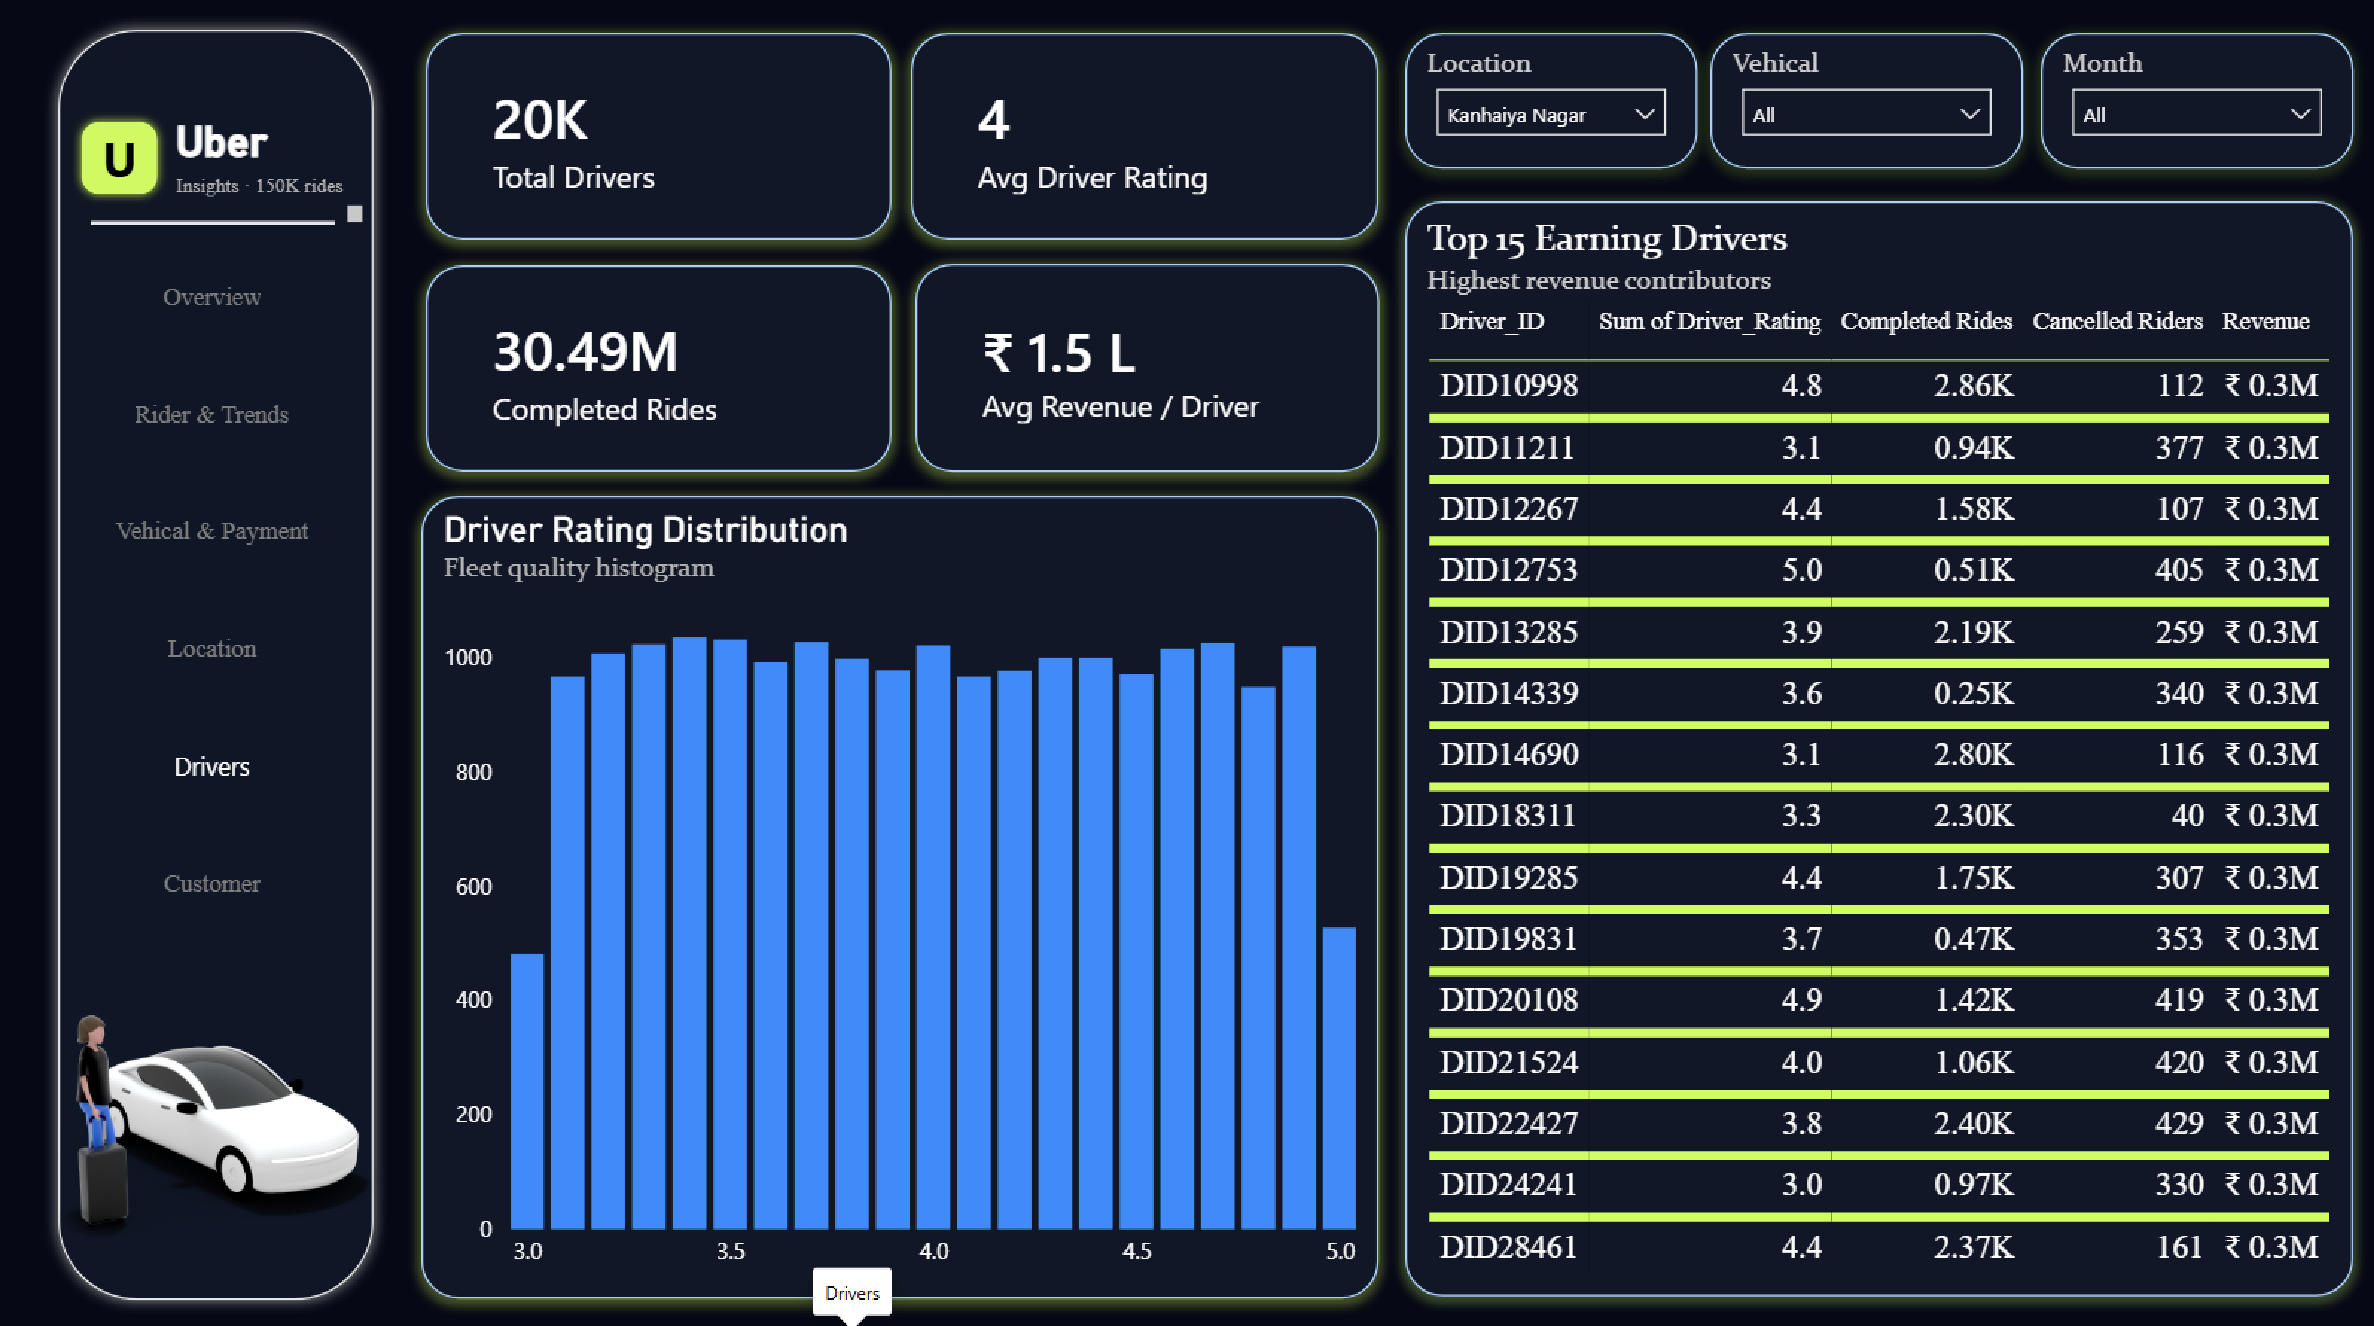

This screenshot's page, from the dashboard's own definition file:
{"tool":"powerbi","page":{"name":"Drivers","canvas":[1280,720],"ordinal":4},"visuals":[{"type":"pageNavigator","box":[37.3,173.6,130,371.8],"z":0},{"type":"shape","box":[25.7,11.5,185.3,697.8],"z":1000},{"type":"shape","box":[40.4,63,51.6,49.6],"z":2000},{"type":"textbox","title":"Uber","box":[92.2,66.5,110,61.2],"z":3000},{"type":"pageNavigator","box":[51.3,135.7,130.2,372.3],"z":4000},{"type":"shape","box":[51.3,112.4,131.2,20.4],"z":5000},{"type":"image","box":[13,498,218,202],"z":6000},{"type":"cardVisual","fields":{"Data":["Measure.Avg Driver Rating"]},"box":[491.7,20.9,250.8,111.5],"z":7000},{"type":"cardVisual","fields":{"Data":["Measure.Total Drivers"]},"box":[230.9,20.9,249.8,111.5],"z":8000},{"type":"cardVisual","fields":{"Data":["Drivers.Completed Rides"]},"box":[230.9,145.3,249.8,111.5],"z":9000},{"type":"cardVisual","fields":{"Data":["Drivers.Avg Revenue / Driver","Drivers.Avg Revenue / Driver"]},"box":[493.7,144.3,248.8,112.5],"z":10000},{"type":"tableEx","title":"Top 15 Earning Drivers","fields":{"Values":["Drivers.Driver_ID","Sum(Drivers.Driver_Rating)","Drivers.Completed Rides","Drivers.Cancelled Riders","Drivers.Revenue"]},"box":[756.8,111.1,509.5,588.5],"z":11000},{"type":"slicer","title":"Month","fields":{"Values":["Booking_Transactions.Booking_Month"]},"box":[1097.9,20.9,168.2,72.7],"z":12000},{"type":"slicer","title":"Vehical","fields":{"Values":["Booking_Transactions.Vehicle_Type"]},"box":[920.7,20.9,168.2,72.7],"z":13000},{"type":"slicer","title":"Location","fields":{"Values":["Booking_Transactions.Drop_Location"]},"box":[756.5,20.9,157.3,72.7],"z":14000},{"type":"clusteredColumnChart","title":"Driver Rating Distribution","fields":{"Category":["Drivers.Driver_Rating"],"Y":["Measure.Total Drivers"]},"box":[228.5,269.3,513.8,430.7],"z":15000}]}

Visuals, with their boxes in screenshot pixels (x1, y1, x2, y2), scaled from the page's 1280x720 canvas onto the 2374x1326 screenshot:
pageNavigator: detection(69, 320, 310, 1004)
shape: detection(48, 21, 391, 1306)
shape: detection(75, 116, 171, 207)
"Uber" textbox: detection(171, 122, 375, 235)
pageNavigator: detection(95, 250, 337, 936)
shape: detection(95, 207, 338, 245)
image: detection(24, 917, 428, 1289)
cardVisual - Measure.Avg Driver Rating: detection(912, 38, 1377, 244)
cardVisual - Measure.Total Drivers: detection(428, 38, 892, 244)
cardVisual - Drivers.Completed Rides: detection(428, 268, 892, 473)
cardVisual - Drivers.Avg Revenue / Driver x Drivers.Avg Revenue / Driver: detection(916, 266, 1377, 473)
"Top 15 Earning Drivers" tableEx: detection(1404, 205, 2349, 1288)
"Month" slicer: detection(2036, 38, 2348, 172)
"Vehical" slicer: detection(1708, 38, 2020, 172)
"Location" slicer: detection(1403, 38, 1695, 172)
"Driver Rating Distribution" clusteredColumnChart: detection(424, 496, 1377, 1289)
